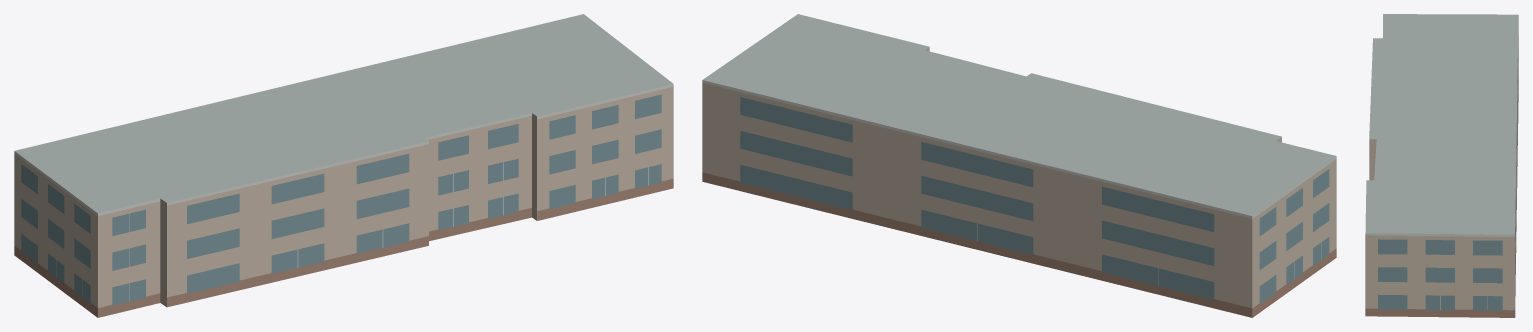
Rendered from survey-upis-33040615.glb.
3 views of the same model, side by side, from view 1: azimuth 30°, elevation 25°; view 2: azimuth 150°, elevation 25°; view 3: azimuth 270°, elevation 25° (orthographic). The views are drawn at different scales.
Parts seen in each view (by area): view 1: survey-upis-33040615.tmp; view 2: survey-upis-33040615.tmp; view 3: survey-upis-33040615.tmp.
Part boxes in pixels (x1=…): survey-upis-33040615.tmp: x1=14, y1=14, x2=673, y2=317; survey-upis-33040615.tmp: x1=702, y1=14, x2=1336, y2=317; survey-upis-33040615.tmp: x1=1365, y1=14, x2=1518, y2=317.
Bounding box in the file's own units: 52.13 × 9.15 × 15.28.
